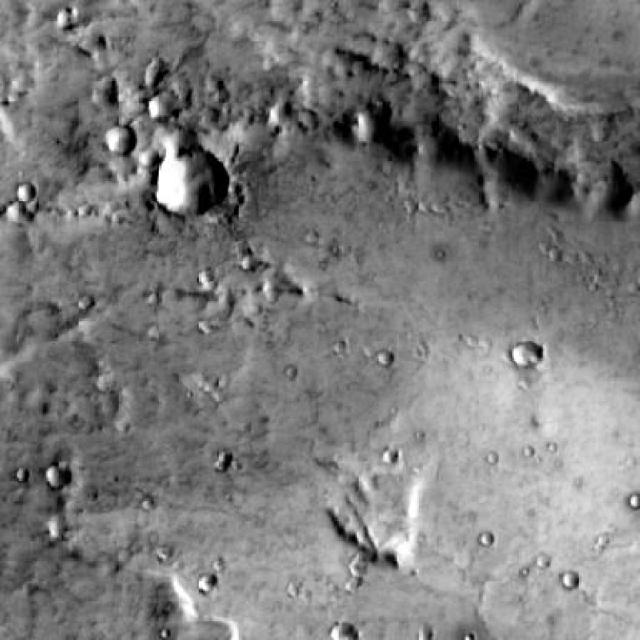crater: (157, 150, 226, 218), (103, 121, 134, 152), (511, 339, 540, 368), (88, 78, 114, 104), (329, 616, 354, 640), (150, 94, 173, 118), (140, 63, 163, 86), (46, 466, 66, 486), (133, 146, 153, 166), (562, 566, 582, 584), (5, 84, 24, 102), (14, 182, 32, 200), (198, 575, 214, 591)
